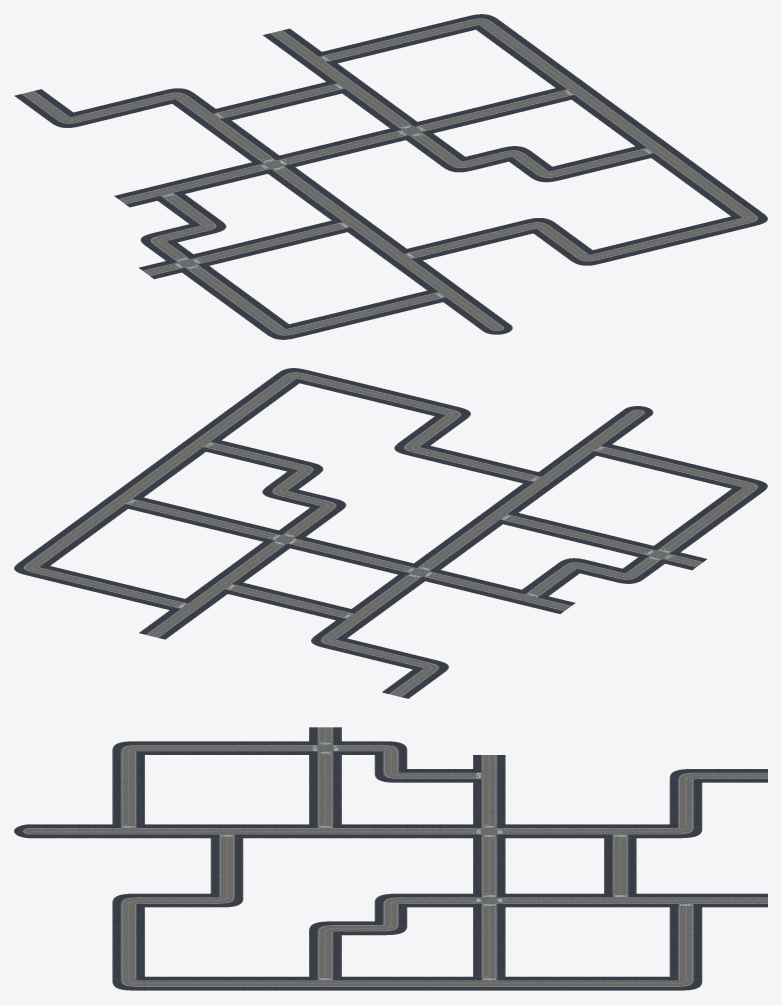
Rendered from m_idle_bg_road_a_05.fbx.
3 renders of one model, top to bottom at view 1: azimuth 30°, elevation 25°; view 2: azimuth 150°, elevation 25°; view 3: azimuth 270°, elevation 25°, orthographic. The views are drawn at different scales.
Parts seen in each view (by area): view 1: m_idle_bg_road_a_05; view 2: m_idle_bg_road_a_05; view 3: m_idle_bg_road_a_05.
Boxes of the visible parts, <box> form: m_idle_bg_road_a_05: <box>14,14,767,339</box>; m_idle_bg_road_a_05: <box>14,368,767,698</box>; m_idle_bg_road_a_05: <box>14,727,767,990</box>.
Bounding box in the file's own units: 475 × 0.000698 × 575.
